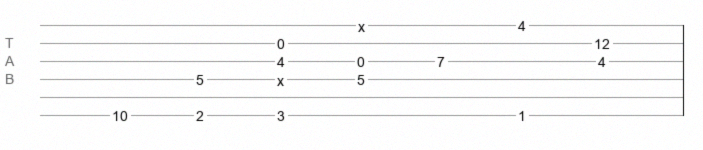0: (277, 36, 285, 46), (357, 54, 365, 64)
1: (518, 108, 526, 118)
10: (112, 108, 128, 118)
12: (594, 36, 610, 46)
2: (196, 108, 204, 118)
3: (277, 108, 285, 118)
4: (277, 54, 285, 64), (518, 18, 526, 28), (598, 54, 606, 64)
5: (196, 72, 204, 82), (357, 72, 365, 82)
7: (437, 54, 445, 64)
x: (277, 73, 284, 81), (358, 19, 365, 27)
